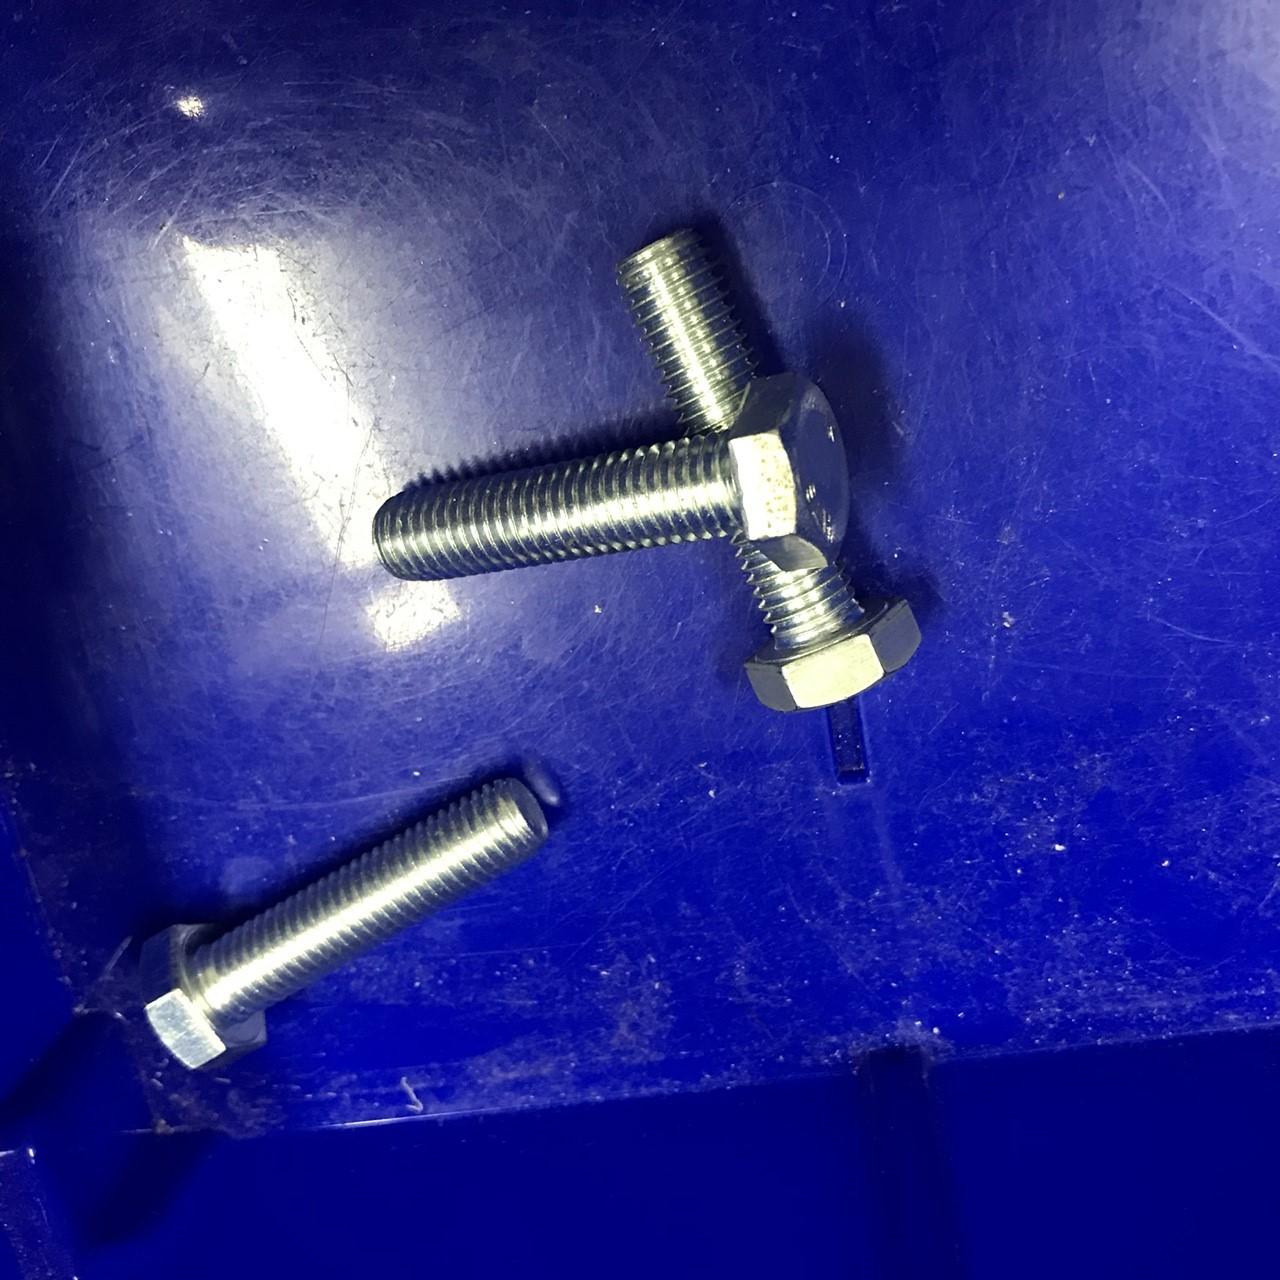screw: (607, 220, 932, 731), (134, 765, 574, 1083), (365, 363, 851, 591)
